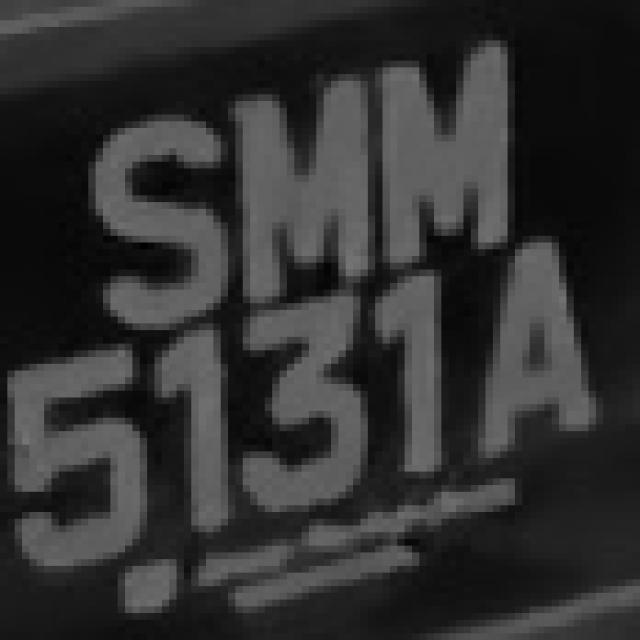1: (405, 236, 456, 512), (191, 303, 243, 573)
3: (220, 283, 382, 546)
5: (8, 337, 154, 606)
A: (471, 216, 618, 472)
M: (368, 27, 530, 263), (228, 74, 383, 303)
S: (66, 114, 228, 343)
